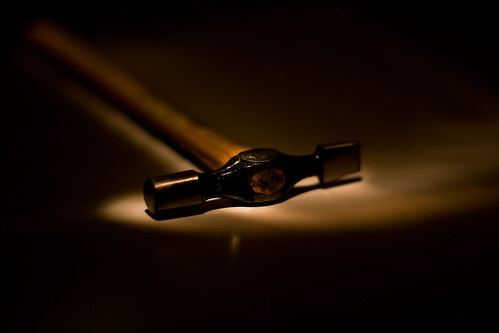hammer: (17, 18, 370, 216)
